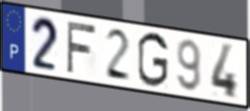2: (29, 14, 62, 76), (102, 28, 133, 83)
4: (209, 43, 241, 100)
9: (175, 37, 203, 93)
F: (64, 19, 97, 75)
G: (136, 30, 170, 89)
